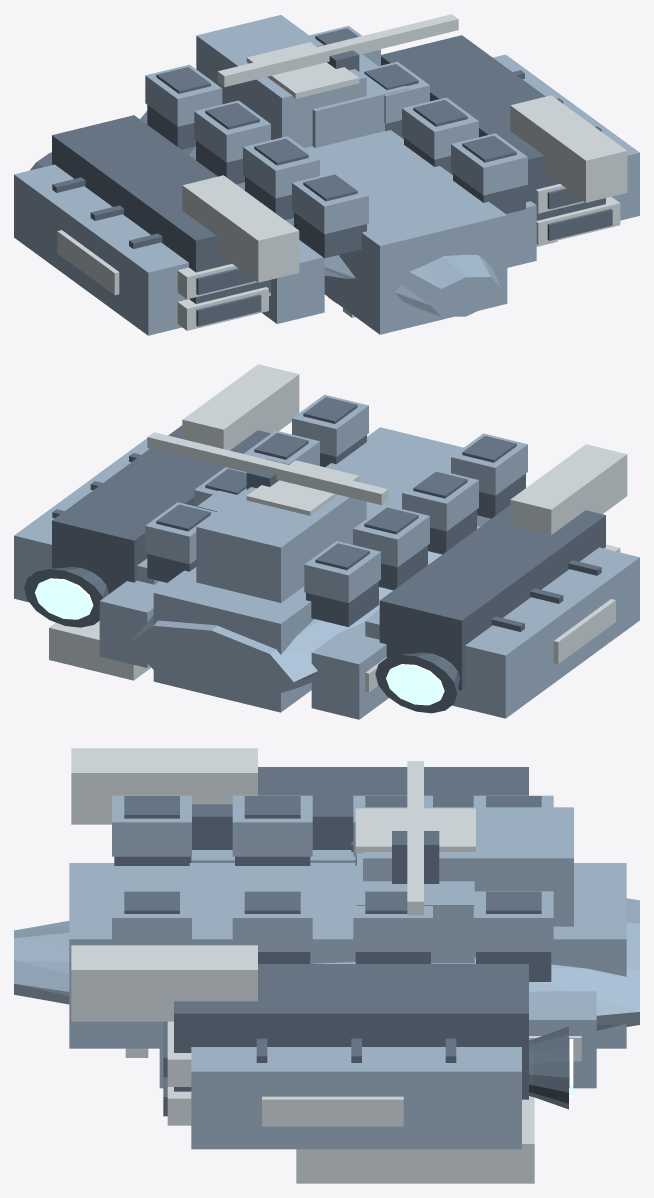
3 renders of one model, top to bottom at view 1: azimuth 30°, elevation 25°; view 2: azimuth 150°, elevation 25°; view 3: azimuth 270°, elevation 25°, orthographic. The views are drawn at different scales.
Size of the model in its own units: 18.92 by 7.32 by 16.62.
